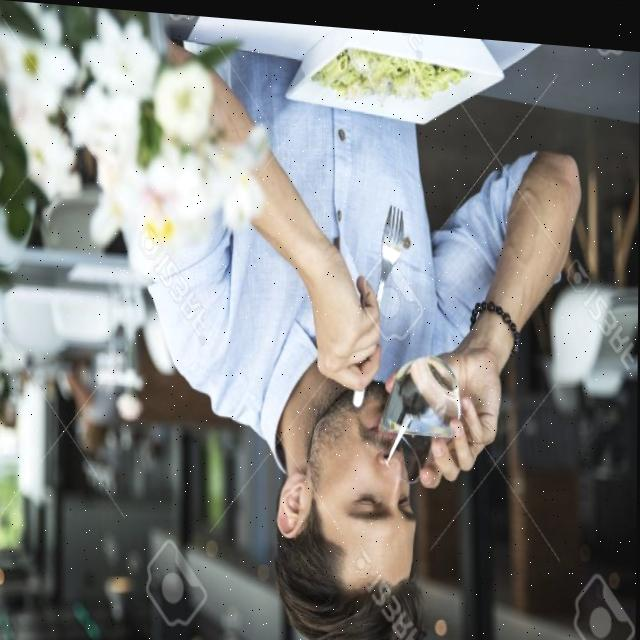eating-person: (117, 12, 596, 640)
